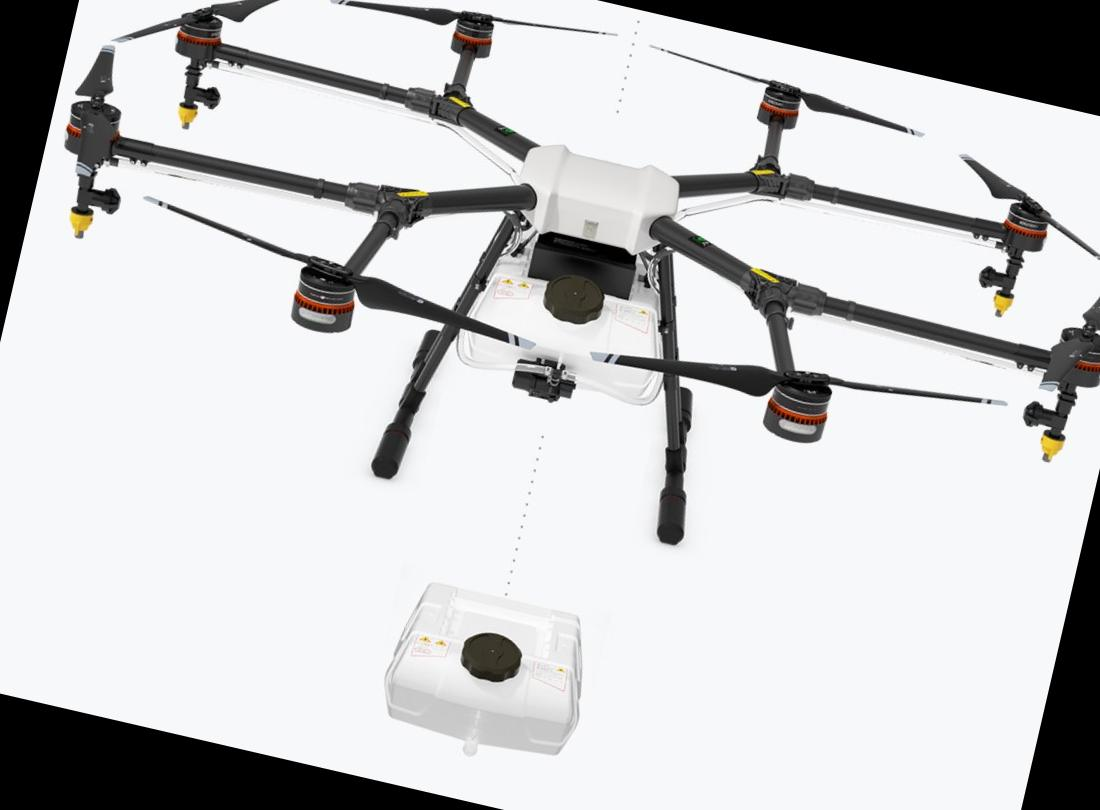drone: (11, 0, 1100, 558)
